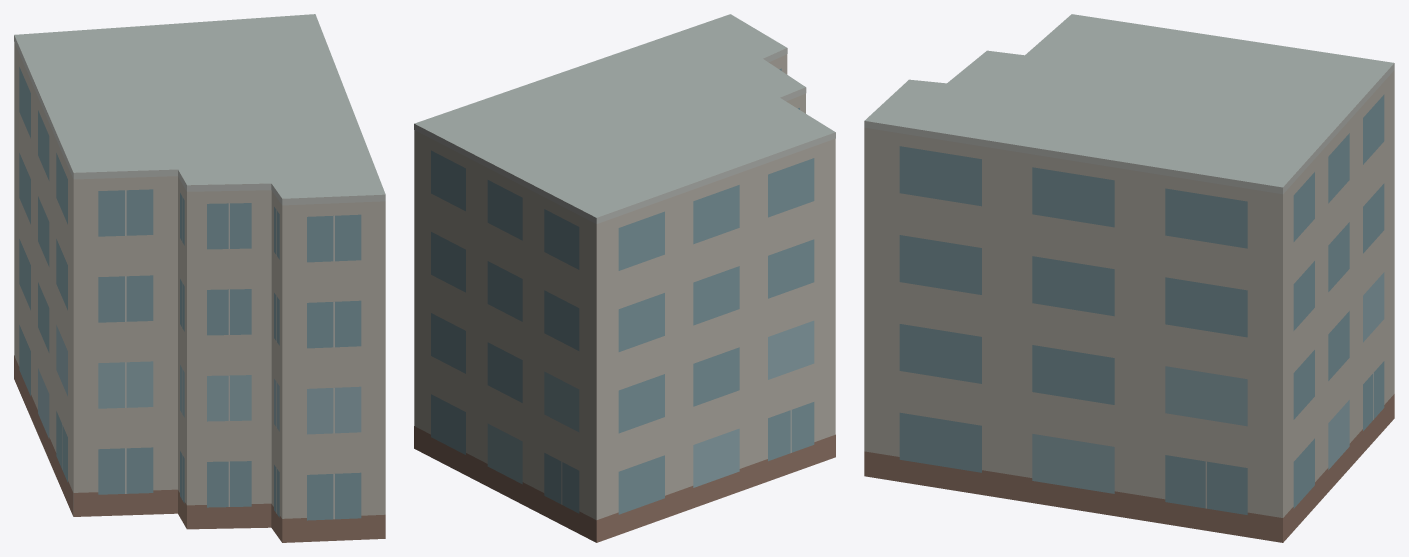
The model's file is survey-upis-32527659.glb.
The picture shows the model from 3 angles, left to right: view 1: azimuth 30°, elevation 25°; view 2: azimuth 150°, elevation 25°; view 3: azimuth 270°, elevation 25°; orthographic projection. The views are drawn at different scales.
Visible parts, largest first — view 1: survey-upis-32527659.tmp; view 2: survey-upis-32527659.tmp; view 3: survey-upis-32527659.tmp.
Boxes of the visible parts, x1,y1,x2,y2 form: survey-upis-32527659.tmp: (14, 14, 385, 542); survey-upis-32527659.tmp: (414, 14, 835, 542); survey-upis-32527659.tmp: (864, 14, 1394, 542).
Size of the model in its own units: 13.27 by 12.67 by 17.14.
